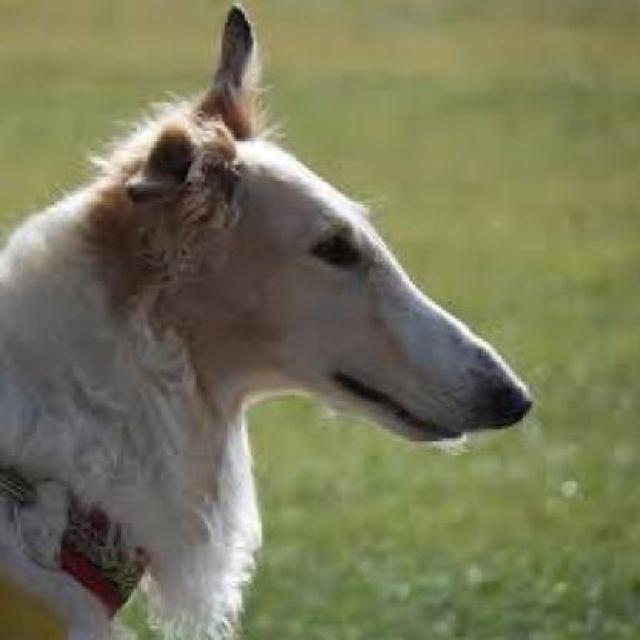animals: (39, 6, 546, 583)
